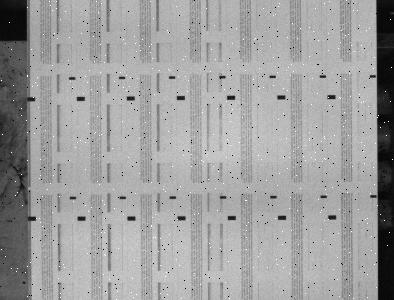backgroundclutter: (22, 281, 26, 284)
qblock: (126, 96, 135, 101), (127, 216, 136, 221), (77, 216, 86, 221), (328, 215, 337, 220), (177, 95, 185, 100), (28, 216, 36, 221), (77, 96, 85, 101), (227, 95, 235, 100), (278, 215, 286, 220), (327, 95, 336, 99), (277, 95, 286, 99), (177, 216, 186, 220), (27, 97, 35, 101), (228, 216, 236, 220)
smallqblock: (219, 75, 226, 79), (69, 196, 76, 199), (169, 196, 176, 199), (169, 76, 176, 79), (269, 75, 276, 78), (69, 77, 76, 80), (119, 196, 126, 199), (270, 195, 277, 198), (319, 75, 326, 78), (369, 75, 376, 78), (320, 195, 327, 198), (370, 195, 377, 198), (220, 196, 227, 199), (119, 76, 125, 79)
